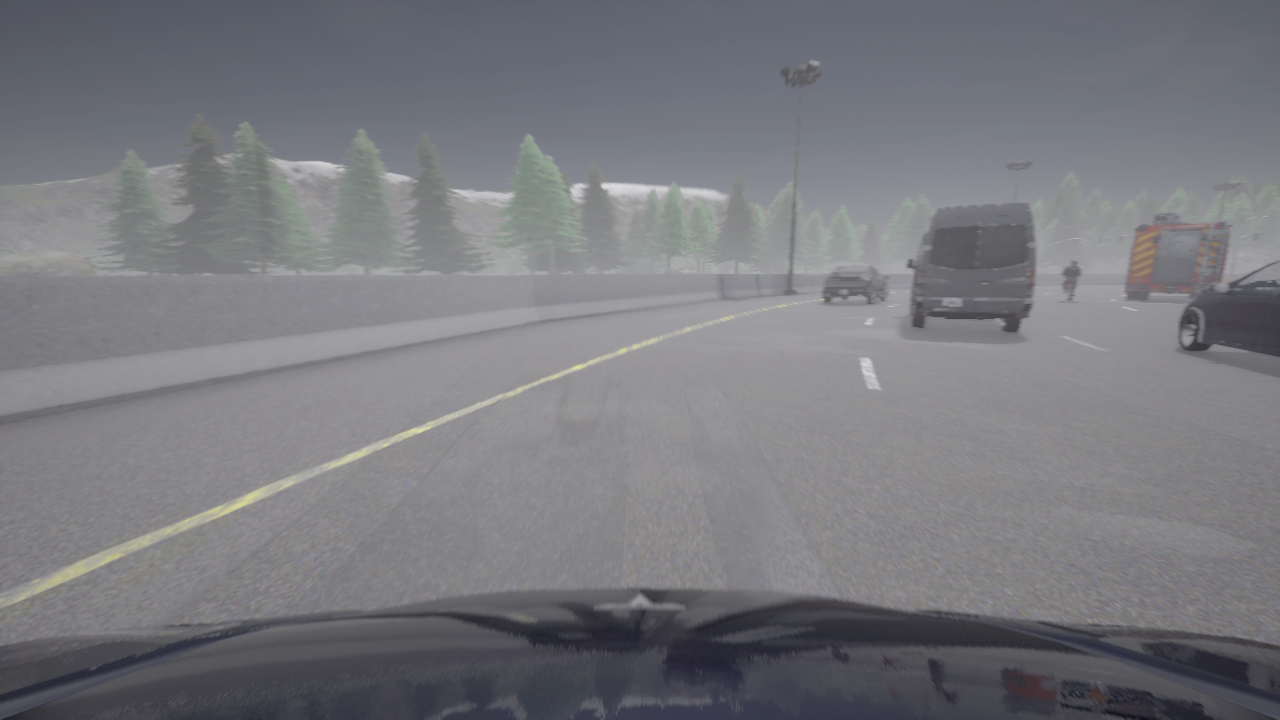cyclist: (0, 588, 1279, 719), (906, 201, 1036, 332), (1178, 260, 1279, 357), (1125, 212, 1231, 300), (823, 266, 889, 304), (1067, 283, 1072, 300)
